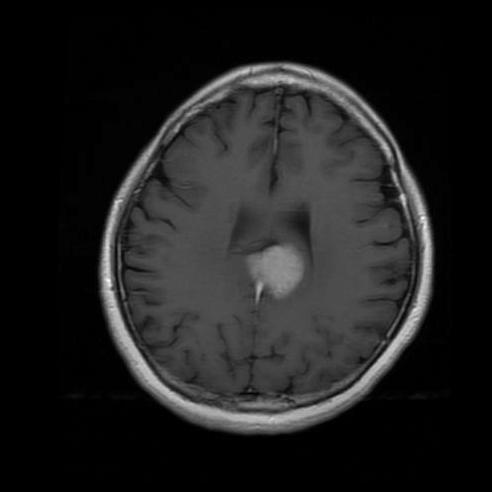Tumour-Pituitary: (206, 214, 346, 324)
